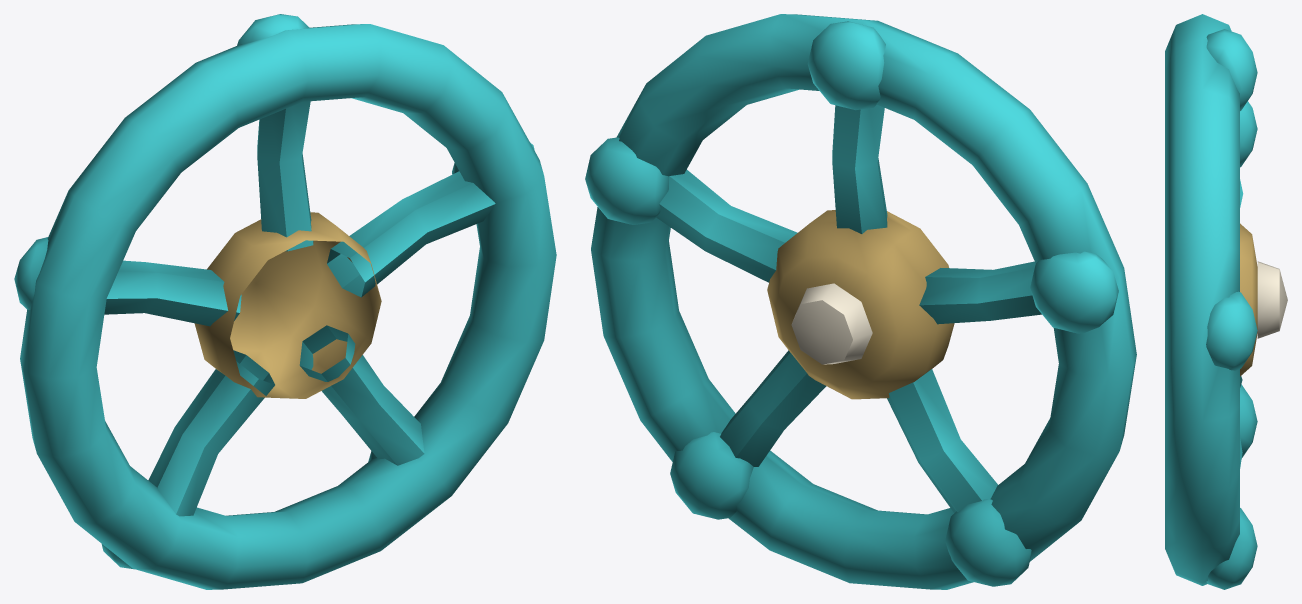
Rendered from EDV2_ValveWheel.fbx.
The picture shows the model from 3 angles, left to right: view 1: azimuth 30°, elevation 25°; view 2: azimuth 150°, elevation 25°; view 3: azimuth 270°, elevation 25°; orthographic projection. The views are drawn at different scales.
Parts seen in each view (by area): view 1: Wheel, Hub; view 2: Wheel, Hub; view 3: Wheel, Hub.
Part boxes in pixels (x1=…): Wheel: x1=14, y1=14, x2=556, y2=589; Hub: x1=194, y1=212, x2=381, y2=398; Wheel: x1=585, y1=14, x2=1136, y2=589; Hub: x1=767, y1=210, x2=954, y2=399; Wheel: x1=1165, y1=14, x2=1257, y2=589; Hub: x1=1240, y1=223, x2=1287, y2=376.
Size of the model in its own units: 0.1046 by 0.1058 by 0.0223.
